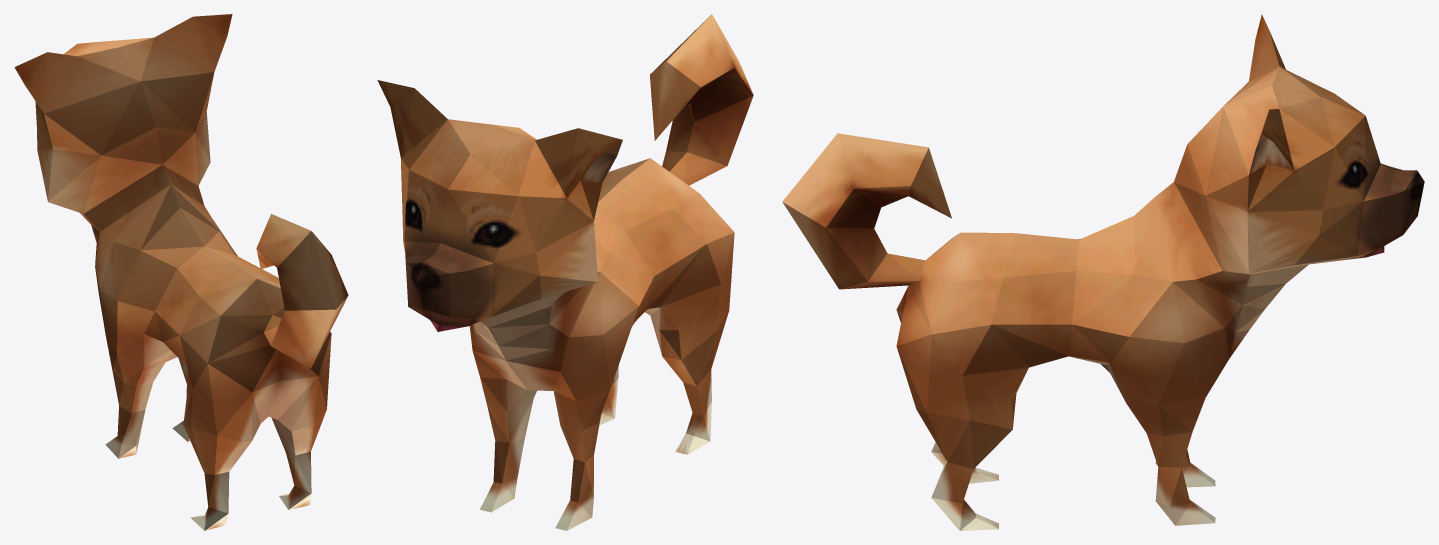
File: hakken.ico.obj
3 views of the same model, side by side, from view 1: azimuth 30°, elevation 25°; view 2: azimuth 150°, elevation 25°; view 3: azimuth 270°, elevation 25° (orthographic). The views are drawn at different scales.
Bounding box in the file's own units: 2.1 × 3.52 × 4.74.
1 material, 1 textured.
